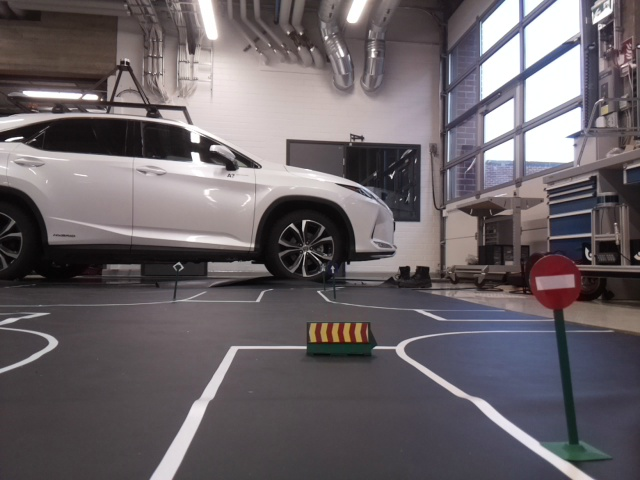ClosedRoadStand: (306, 320, 369, 344)
NoEntry: (528, 253, 581, 309)
